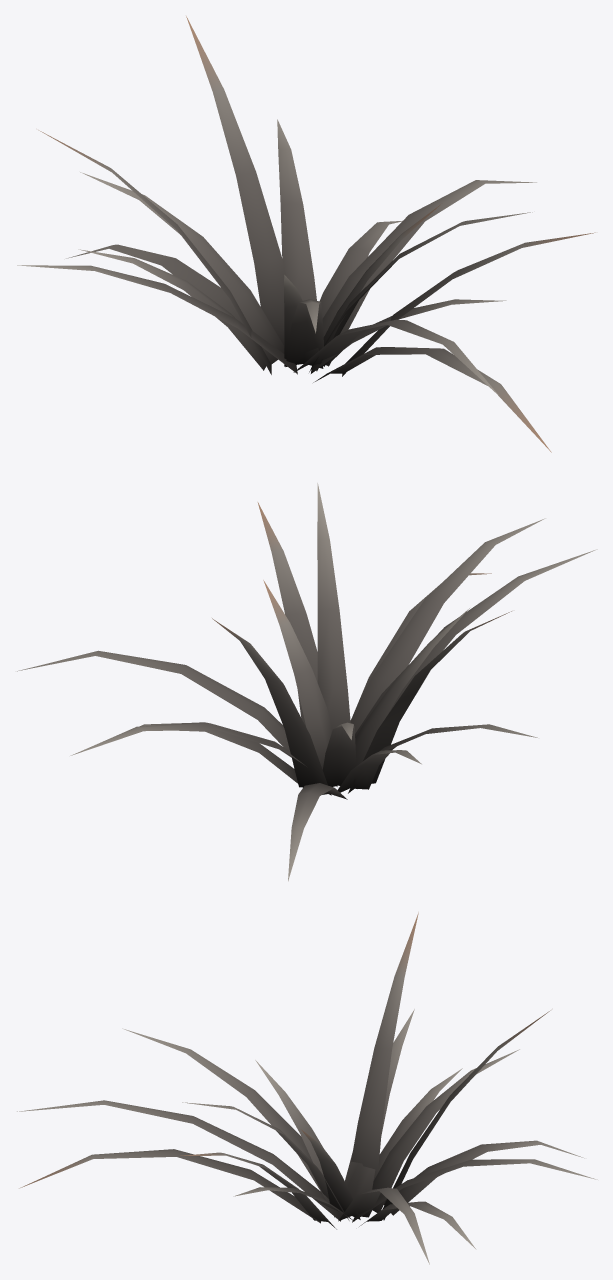
File: ash_grass.glb
3 renders of one model, top to bottom at view 1: azimuth 30°, elevation 25°; view 2: azimuth 150°, elevation 25°; view 3: azimuth 270°, elevation 25°, orthographic. The views are drawn at different scales.
Visible parts, largest first — view 1: ash_grass; view 2: ash_grass; view 3: ash_grass.
Boxes of the visible parts, left/top/right/bottom form: ash_grass: left=17, top=16, right=595, bottom=452; ash_grass: left=17, top=483, right=597, bottom=881; ash_grass: left=17, top=912, right=597, bottom=1264.
Bounding box in the file's own units: 0.6556 × 0.3067 × 0.7619.
